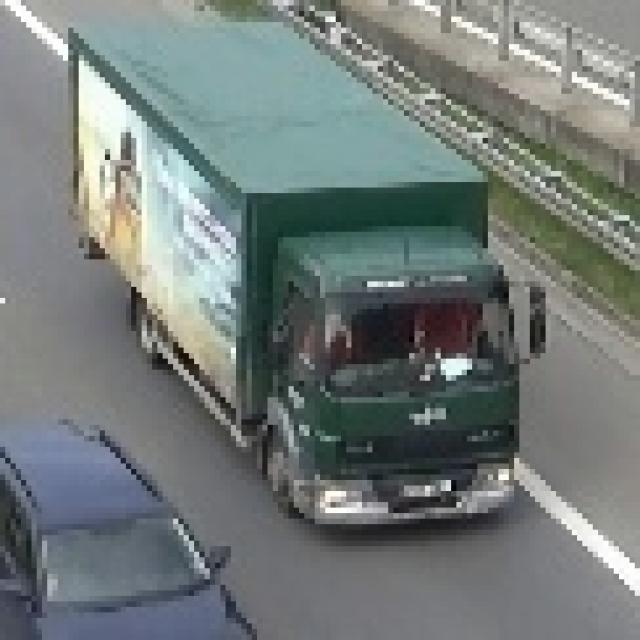truck: (64, 7, 541, 525)
